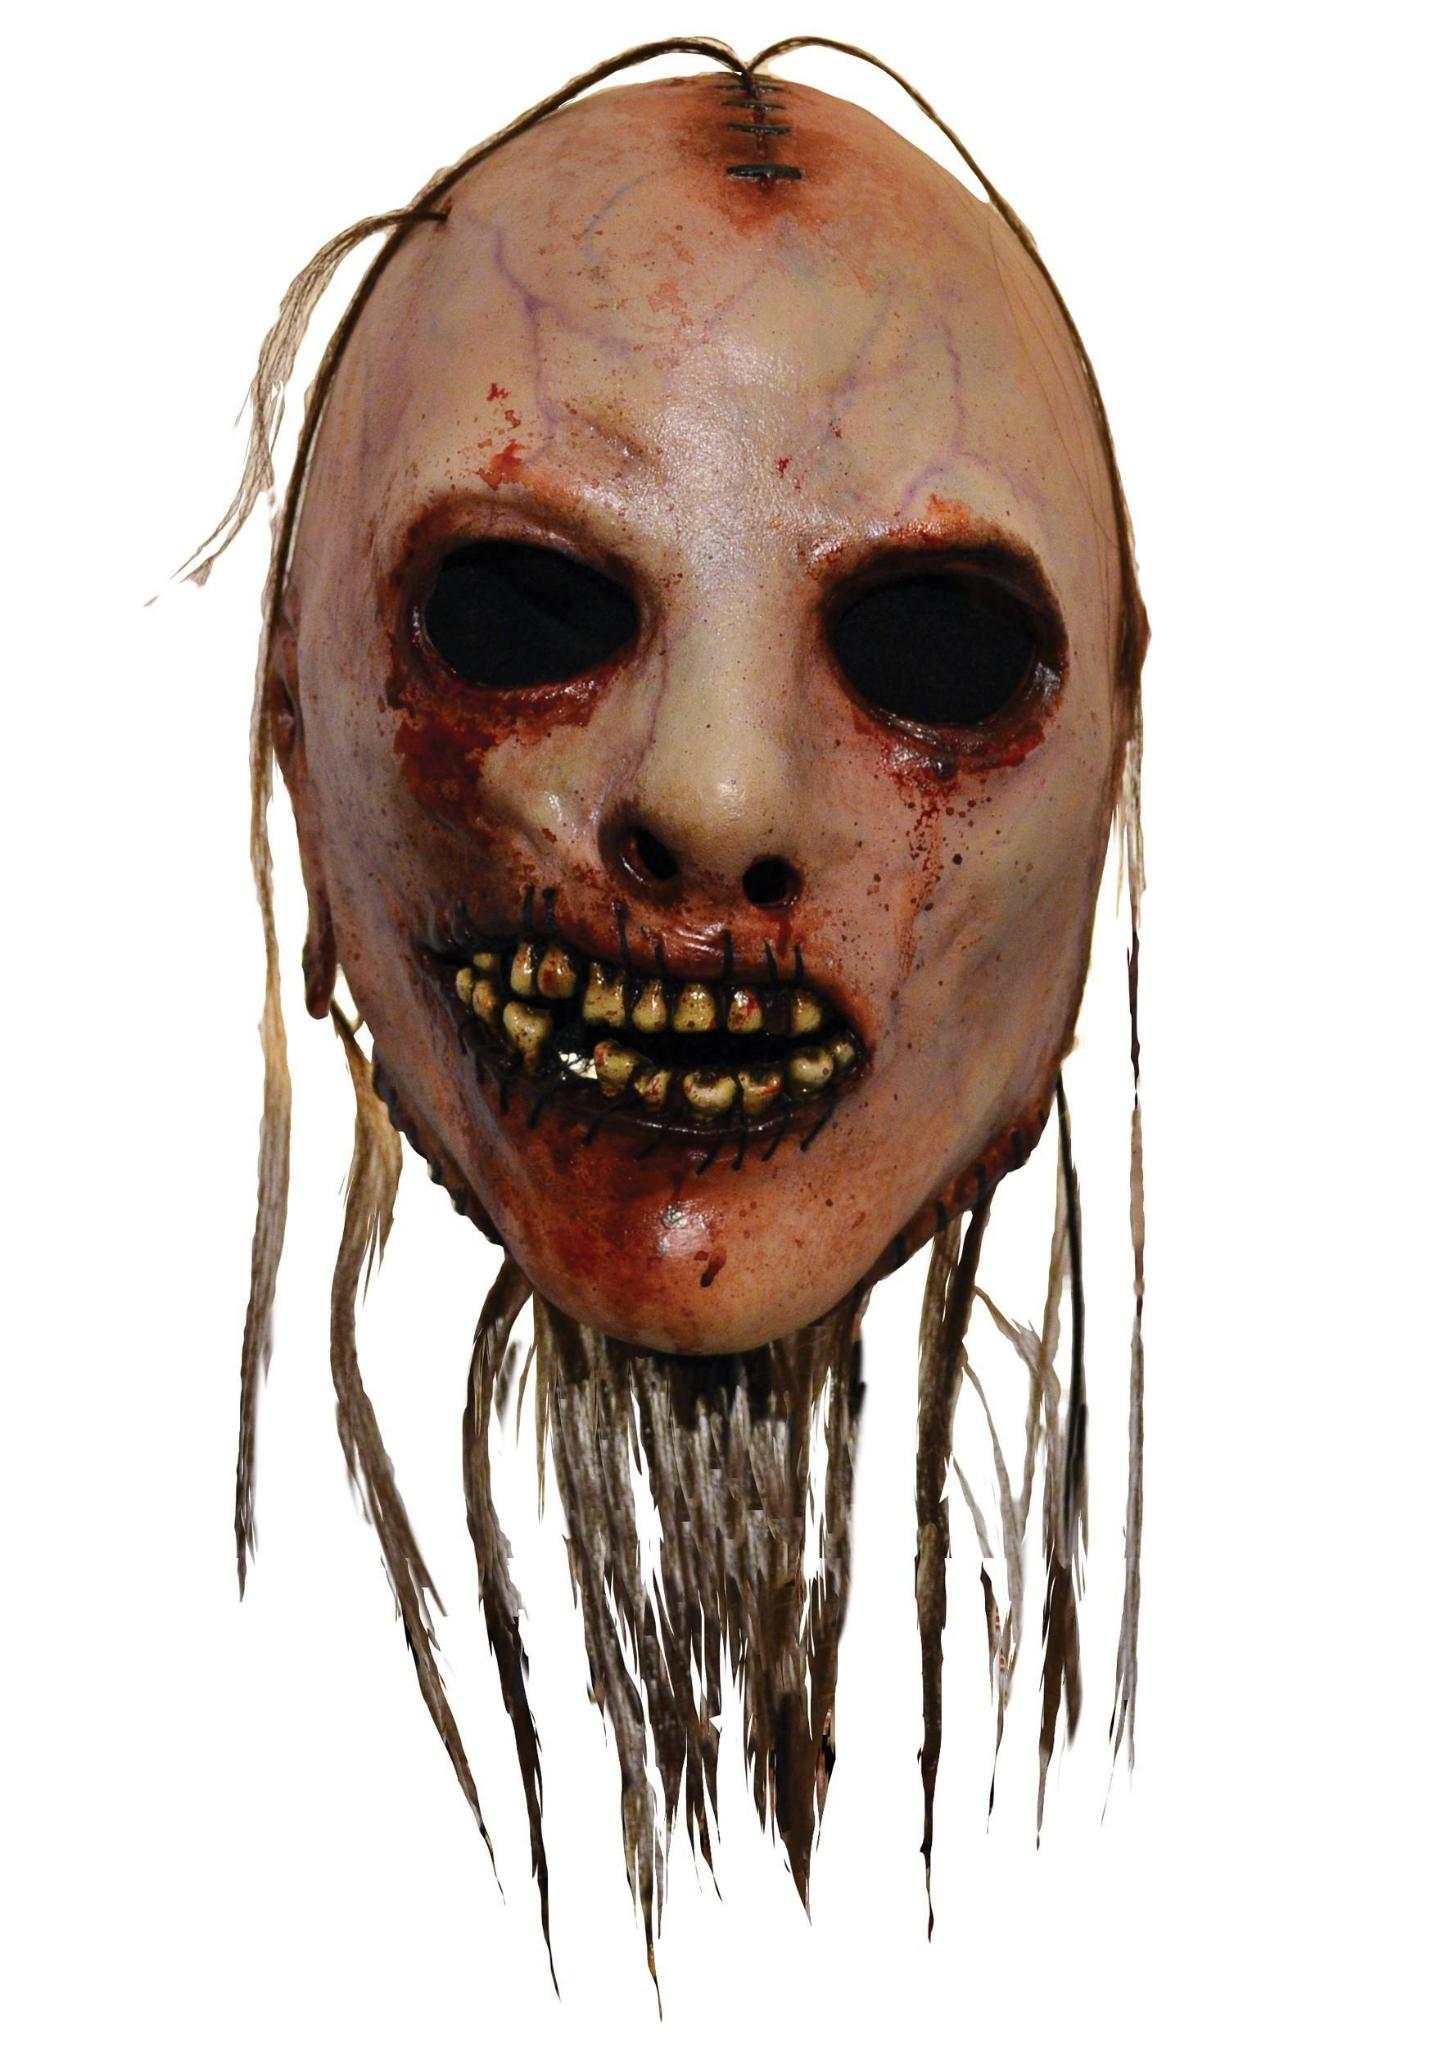Fire: (361, 367, 871, 1029), (792, 481, 1120, 1108), (392, 1029, 890, 1355), (683, 76, 831, 233)
